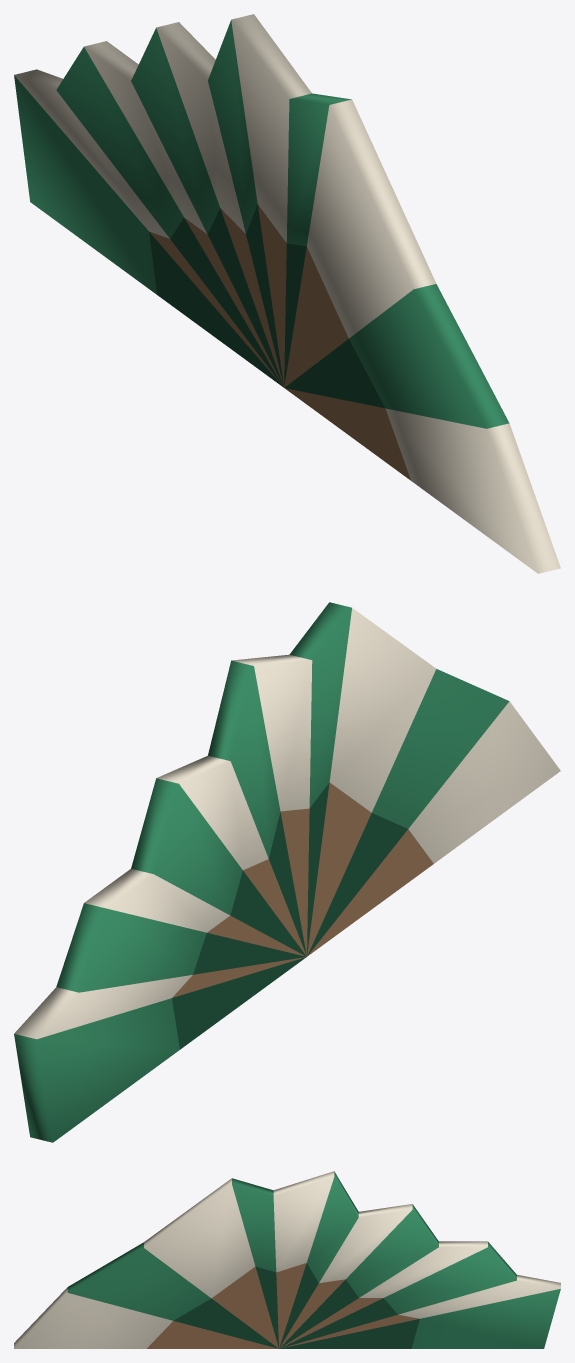
The model's file is carp-fins.glb.
The picture shows the model from 3 angles, top to bottom: view 1: azimuth 30°, elevation 25°; view 2: azimuth 150°, elevation 25°; view 3: azimuth 270°, elevation 25°; orthographic projection. The views are drawn at different scales.
Visible parts, largest first — view 1: fins; view 2: fins; view 3: fins.
Boxes of the visible parts, x1,y1,x2,y2 form: fins: (14,14,560,573); fins: (14,602,560,1142); fins: (14,1171,560,1348).
Size of the model in its own units: 0.014 by 0.1933 by 0.5572.
